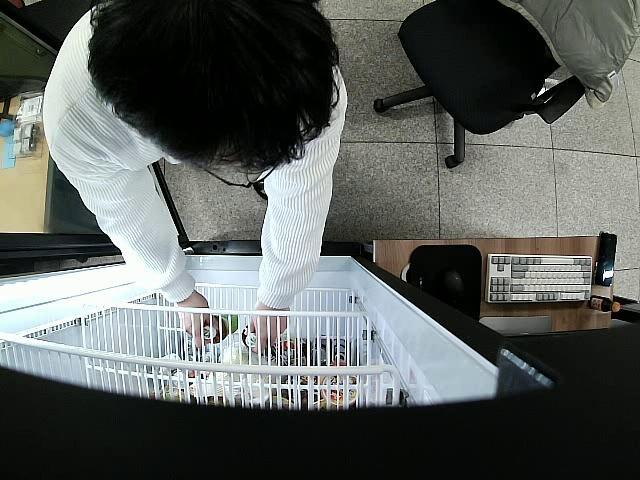19_17cha: (204, 312, 236, 345), (242, 324, 260, 348)
